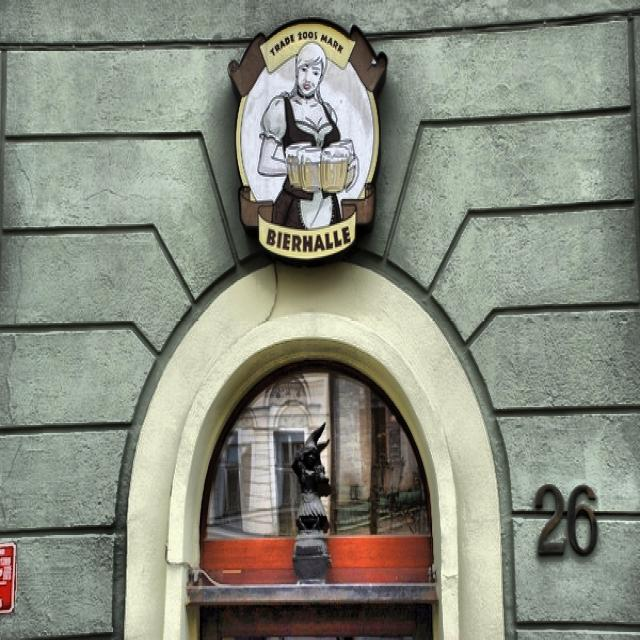Bawarka: (292, 424, 330, 584)
